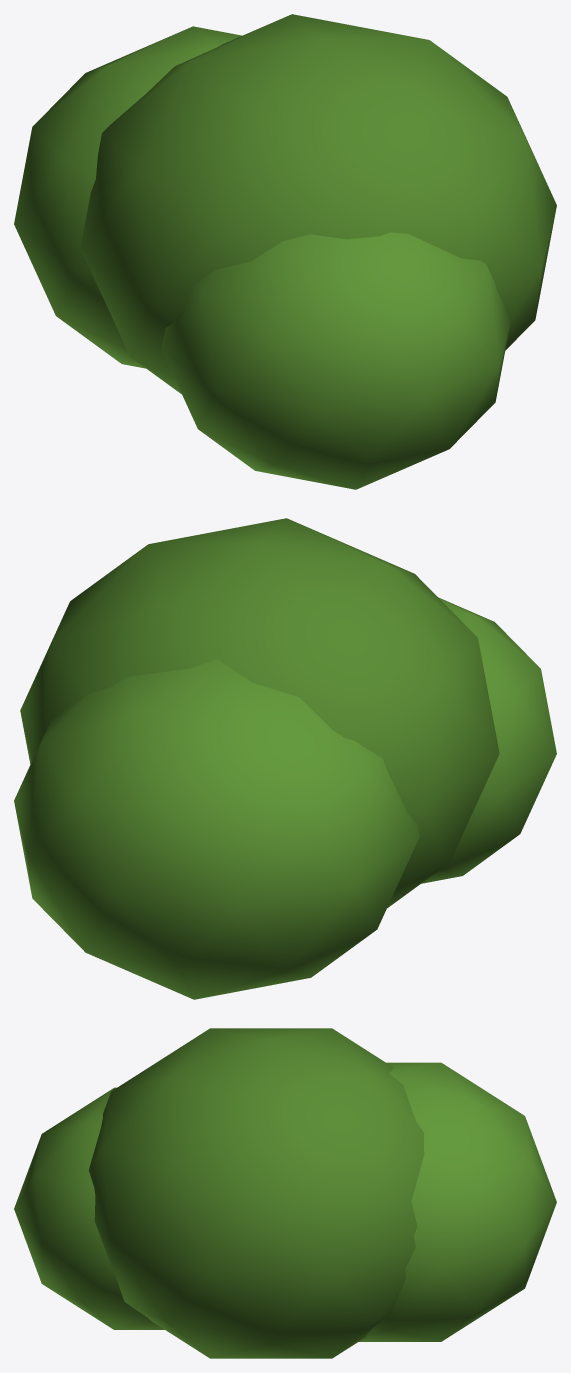
Rendered from p_shrub_2.glb.
3 views of the same model, one above another, from view 1: azimuth 30°, elevation 25°; view 2: azimuth 150°, elevation 25°; view 3: azimuth 270°, elevation 25° (orthographic). The views are drawn at different scales.
Visible parts, largest first — view 1: body; view 2: body; view 3: body.
Part boxes in pixels (x1,y1,x2,y2): body: (14,14,556,489); body: (14,518,556,999); body: (14,1028,556,1358).
Size of the model in its own units: 1.08 by 0.8972 by 1.56.
